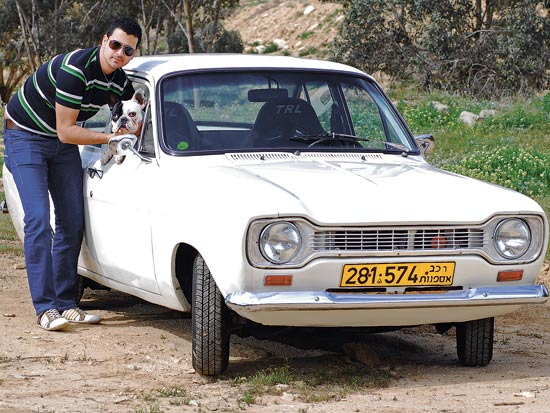licence: (340, 259, 457, 288)
